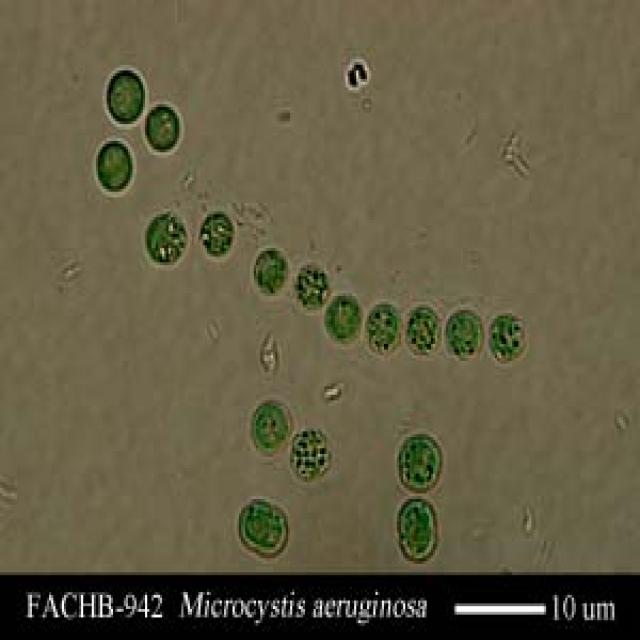Blue Green Algae: (396, 432, 442, 494), (143, 212, 190, 270), (248, 397, 292, 454), (105, 68, 147, 127), (94, 138, 134, 195), (363, 299, 401, 358), (324, 290, 363, 347), (250, 245, 290, 299), (444, 307, 484, 361), (486, 310, 527, 361), (405, 302, 442, 358), (143, 102, 181, 155), (198, 209, 235, 259), (397, 496, 437, 539), (294, 262, 328, 310), (239, 496, 271, 547)
